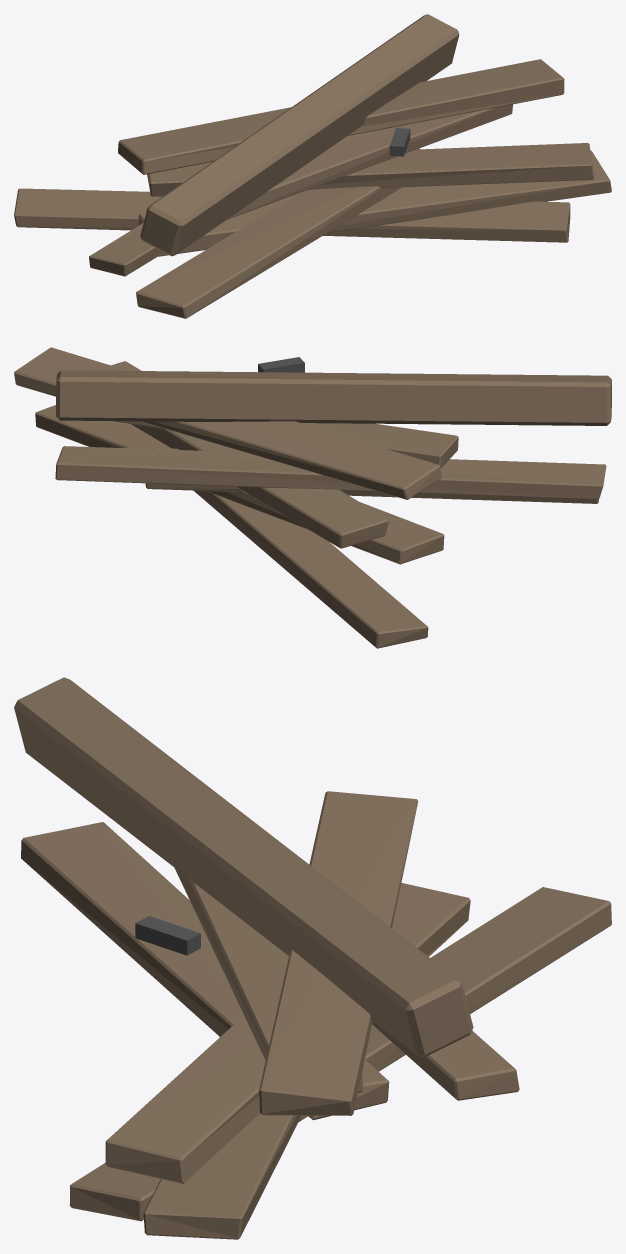
Rendered from plank_pile.glb.
The picture shows the model from 3 angles, top to bottom: view 1: azimuth 30°, elevation 25°; view 2: azimuth 150°, elevation 25°; view 3: azimuth 270°, elevation 25°; orthographic projection. The views are drawn at different scales.
Visible parts, largest first — view 1: wood, iron; view 2: wood, iron; view 3: wood, iron.
Part boxes in pixels (x1,y1,x2,y2): wood: (14, 14, 611, 318); iron: (389, 128, 410, 156); wood: (14, 347, 611, 648); iron: (258, 357, 304, 372); wood: (14, 677, 611, 1239); iron: (135, 916, 200, 955).
Size of the model in its own units: 1.7 by 0.4334 by 1.08.
